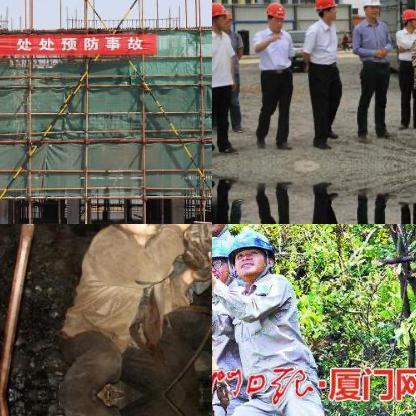Helmet: (219, 225, 277, 281), (261, 0, 287, 32), (212, 233, 229, 281), (314, 0, 339, 23), (212, 0, 229, 32), (398, 5, 415, 31), (361, 0, 383, 20)
